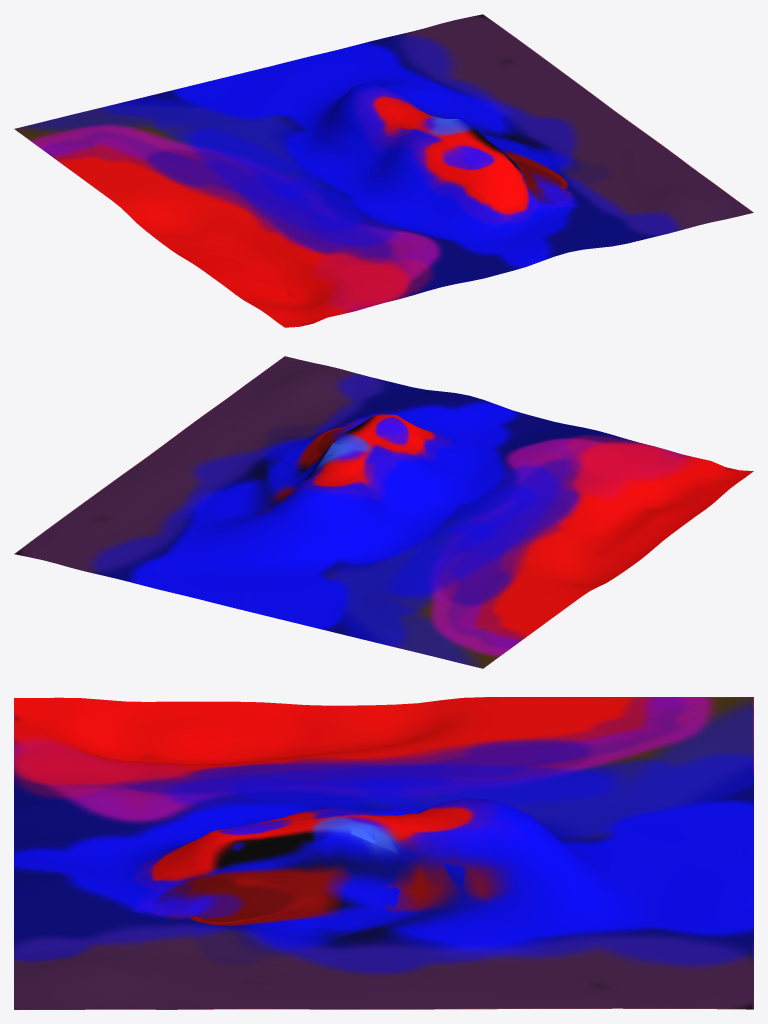
File: terrainShading.gltf
3 renders of one model, top to bottom at view 1: azimuth 30°, elevation 25°; view 2: azimuth 150°, elevation 25°; view 3: azimuth 270°, elevation 25°, orthographic. The views are drawn at different scales.
Visible parts, largest first — view 1: Plane; view 2: Plane; view 3: Plane.
Part boxes in pixels (x1,y1,x2,y2): Plane: [14, 14, 753, 327]; Plane: [14, 356, 753, 668]; Plane: [14, 697, 753, 1009].
Size of the model in its own units: 20 by 2.64 by 20.
1 material, 1 textured.
